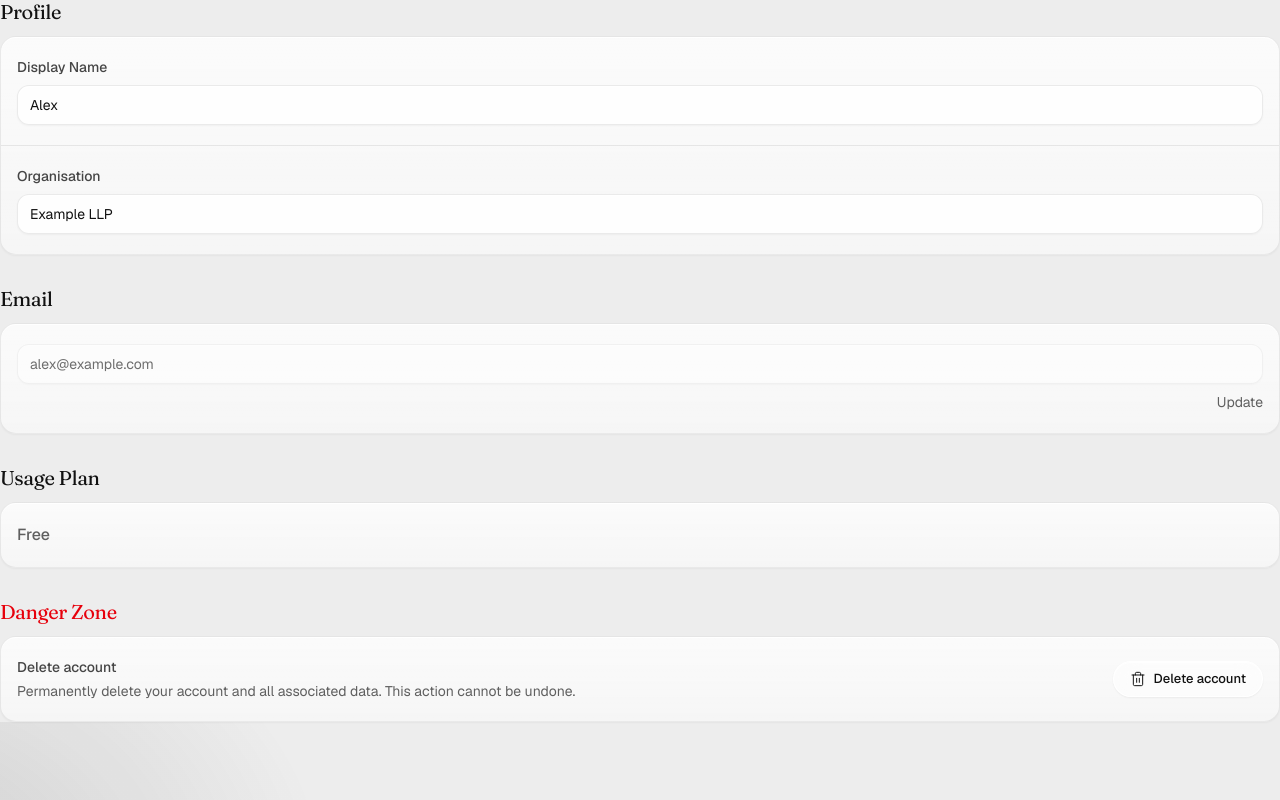
Test: SettingsPage Google email changes › shows a warning popup when account deletion fails
Step 1. Click the button named "Delete account" → (1188, 679), box [1112, 661, 1263, 697]
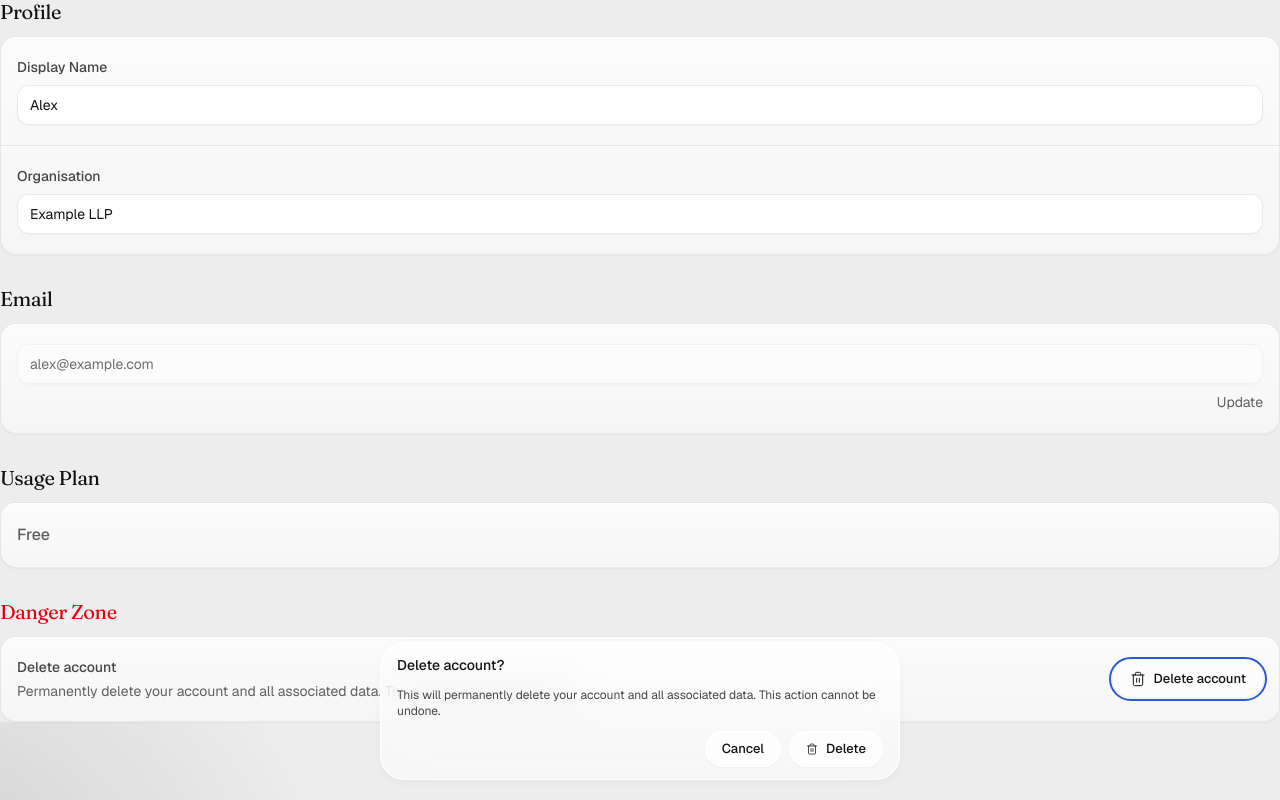
Step 2. Click the 3rd button named "Delete" → (836, 749), box [789, 731, 883, 767]
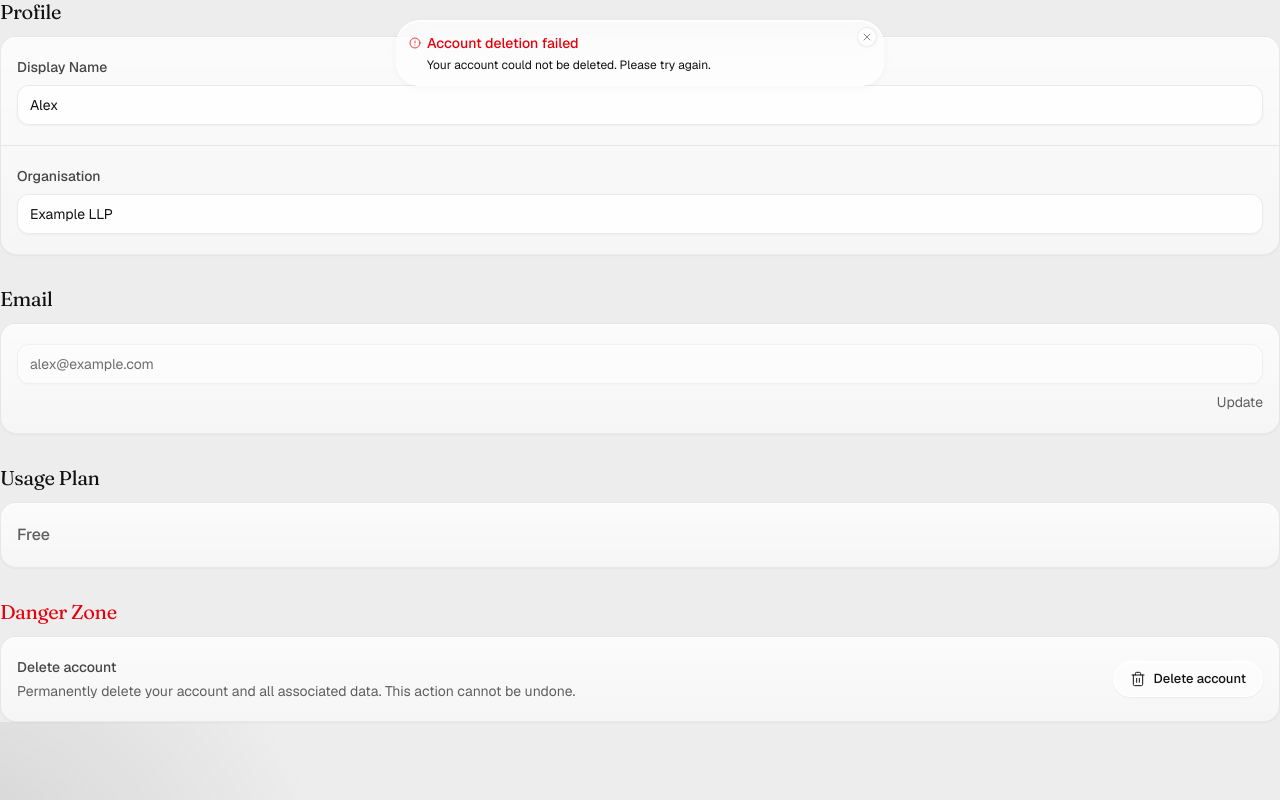
Now the text "Account deletion failed" is shown, box [409, 34, 579, 52]
Now the text "Your account could not be deleted. Please try again." is shown, box [427, 57, 711, 73]
